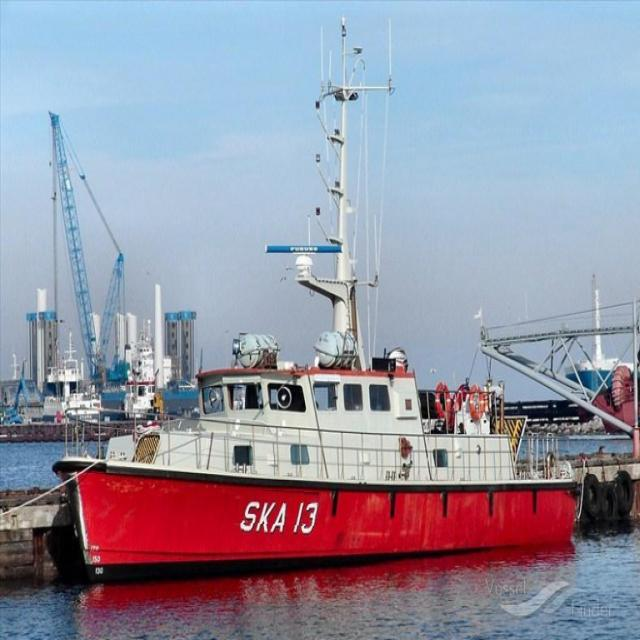OCR: (236, 488, 319, 544)
